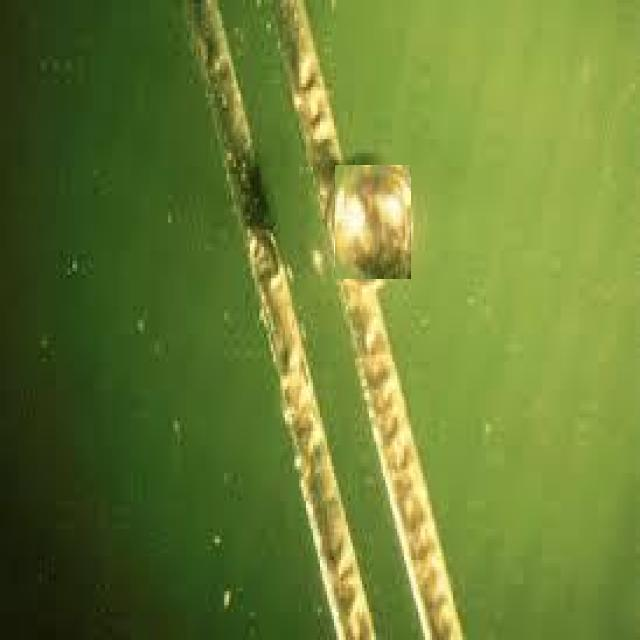redundant: (334, 166, 411, 278)
